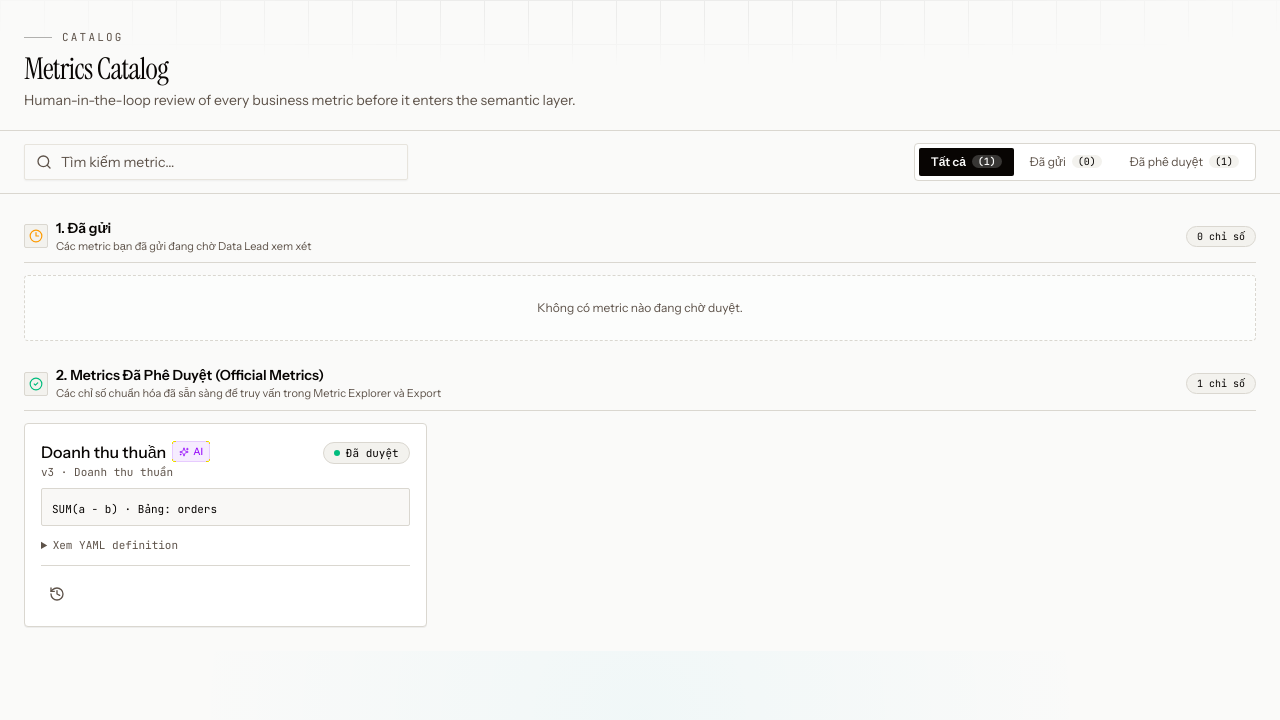
Test: MetricsCatalogView history modal › hides rollback for roles without manage capability
Click the button titled "Xem lịch sử phiên bản" at [57, 594], box x1=41 y1=578 x2=73 y2=610
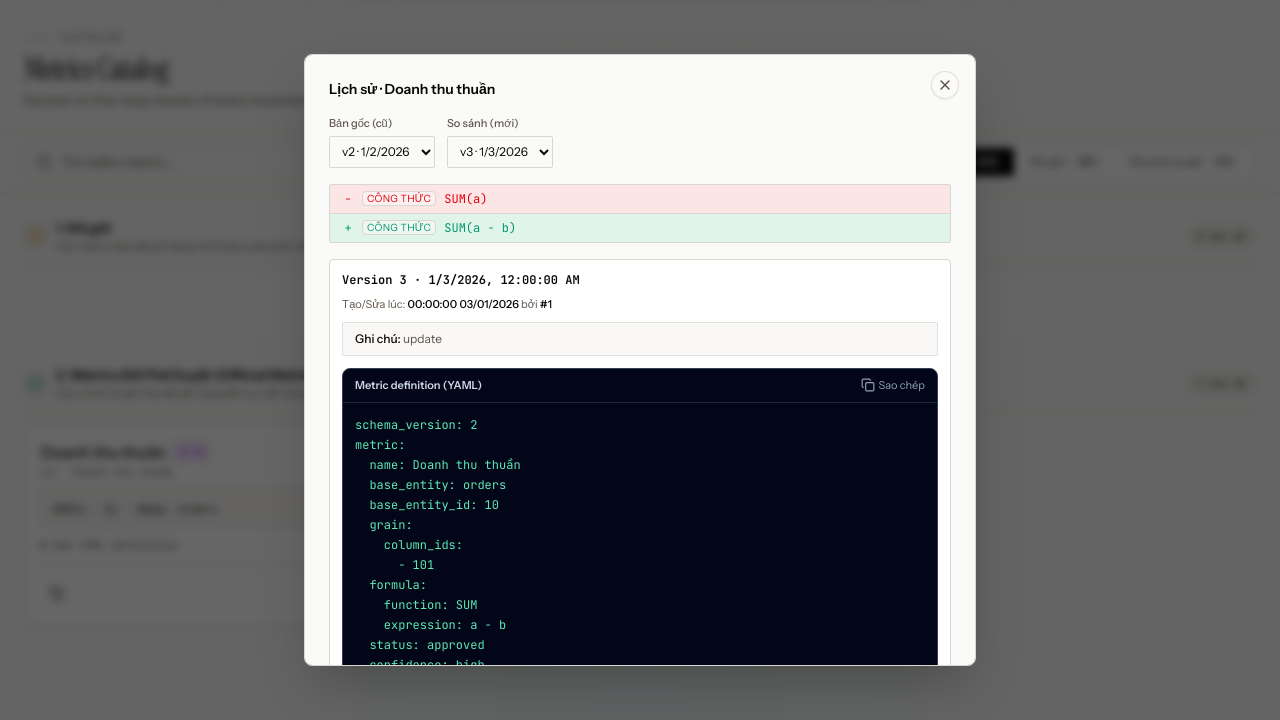
Result: the dialog is shown at x1=304 y1=54 x2=976 y2=666
